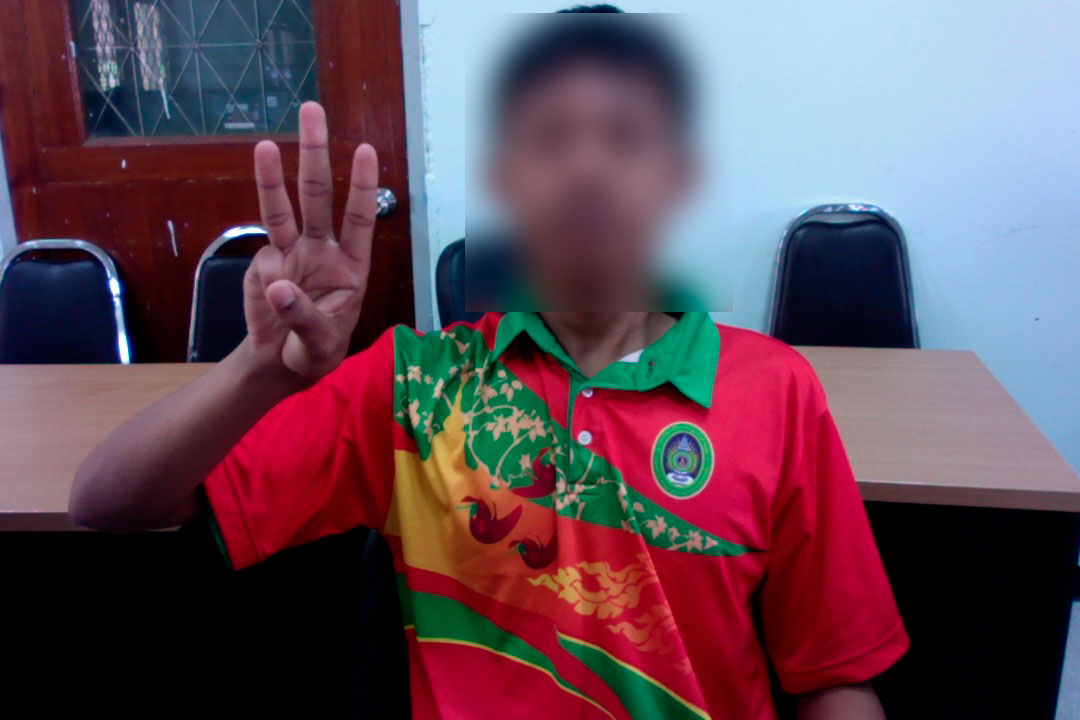wor: (229, 97, 384, 398)
